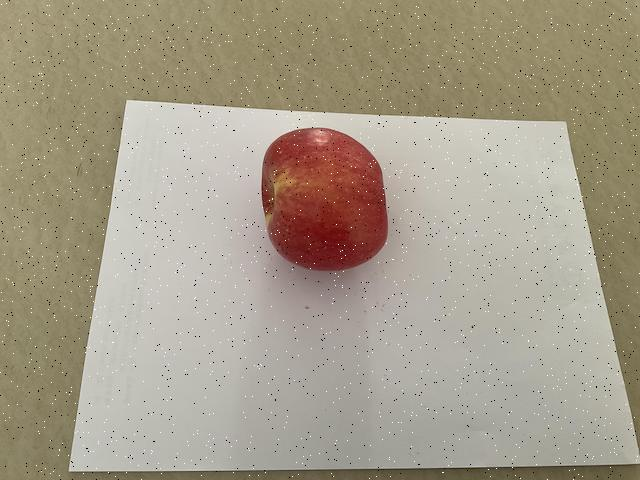apple: (252, 123, 395, 276)
